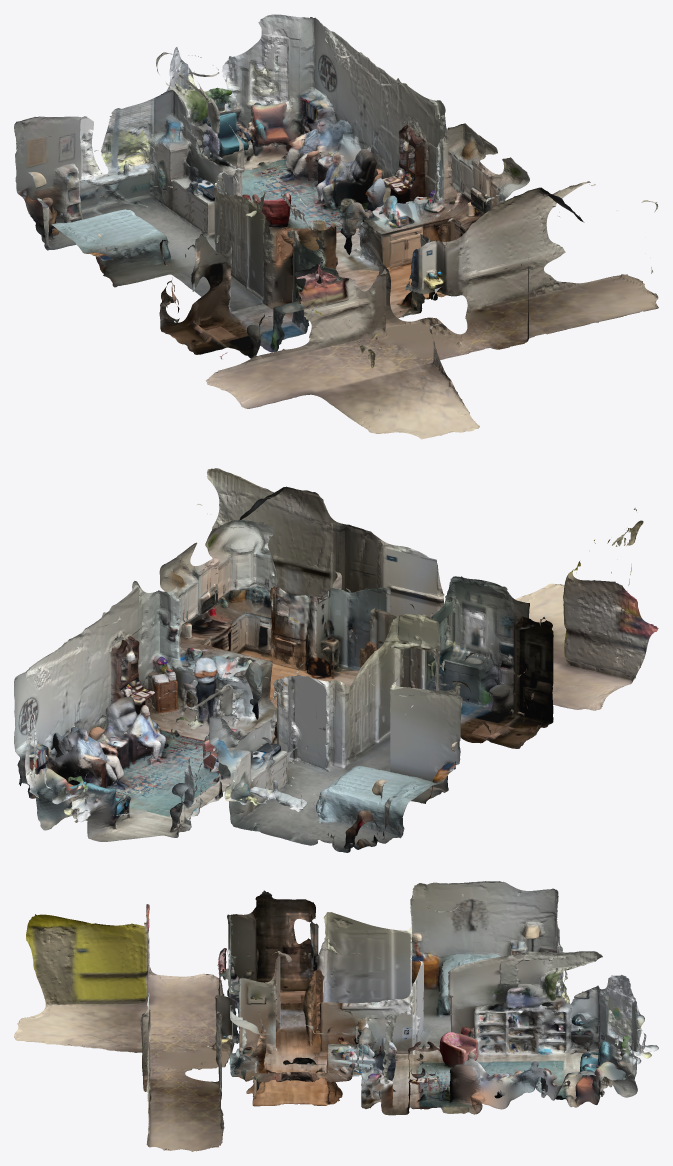
Rendered from rick.glb.
3 renders of one model, top to bottom at view 1: azimuth 30°, elevation 25°; view 2: azimuth 150°, elevation 25°; view 3: azimuth 270°, elevation 25°, orthographic. The views are drawn at different scales.
Bounding box in the file's own units: 11.11 × 3.03 × 16.19.
Materials: 1 (1 with a texture image).
